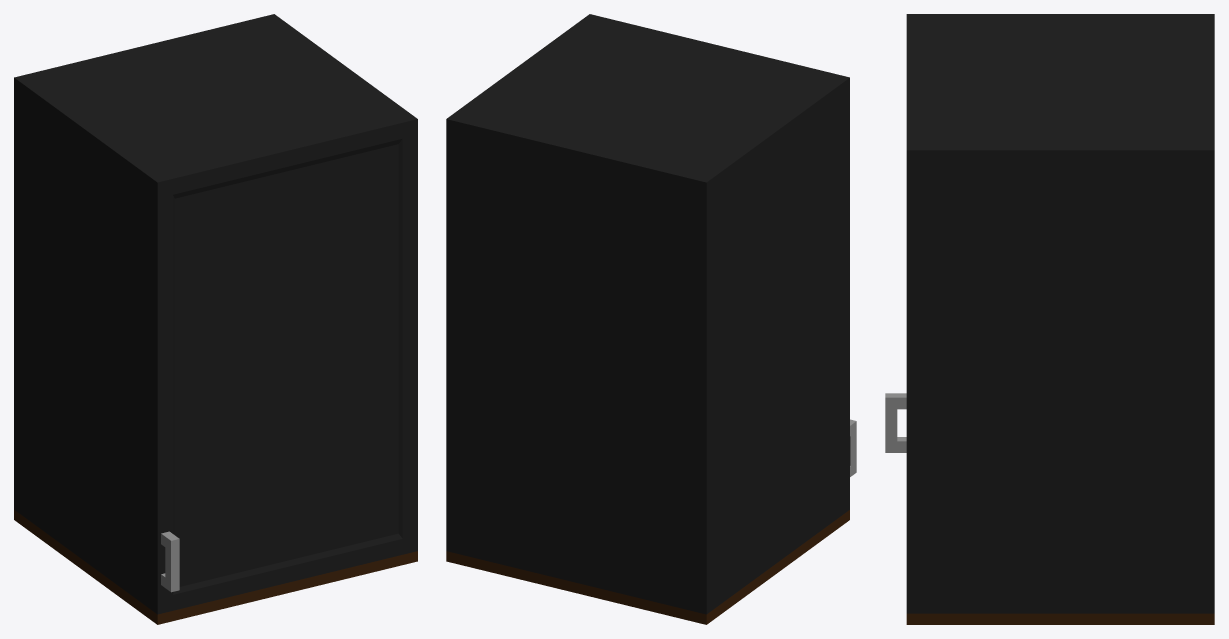
Rendered from ArmarioCocina2.FBX.
The picture shows the model from 3 angles, left to right: view 1: azimuth 30°, elevation 25°; view 2: azimuth 150°, elevation 25°; view 3: azimuth 270°, elevation 25°; orthographic projection. The views are drawn at different scales.
Visible parts, largest first — view 1: ArmarioCocina2; view 2: ArmarioCocina2; view 3: ArmarioCocina2.
Boxes of the visible parts, x1=… form: ArmarioCocina2: x1=14, y1=14, x2=417, y2=624; ArmarioCocina2: x1=446, y1=14, x2=856, y2=624; ArmarioCocina2: x1=885, y1=14, x2=1214, y2=624.
Bounding box in the file's own units: 1.57 × 2.54 × 1.6.
